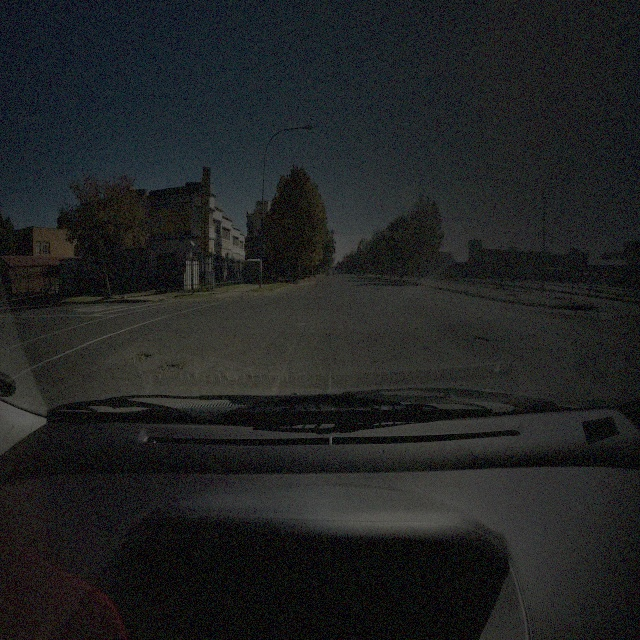pothole: (156, 360, 184, 378), (128, 349, 152, 365), (474, 335, 489, 344)
